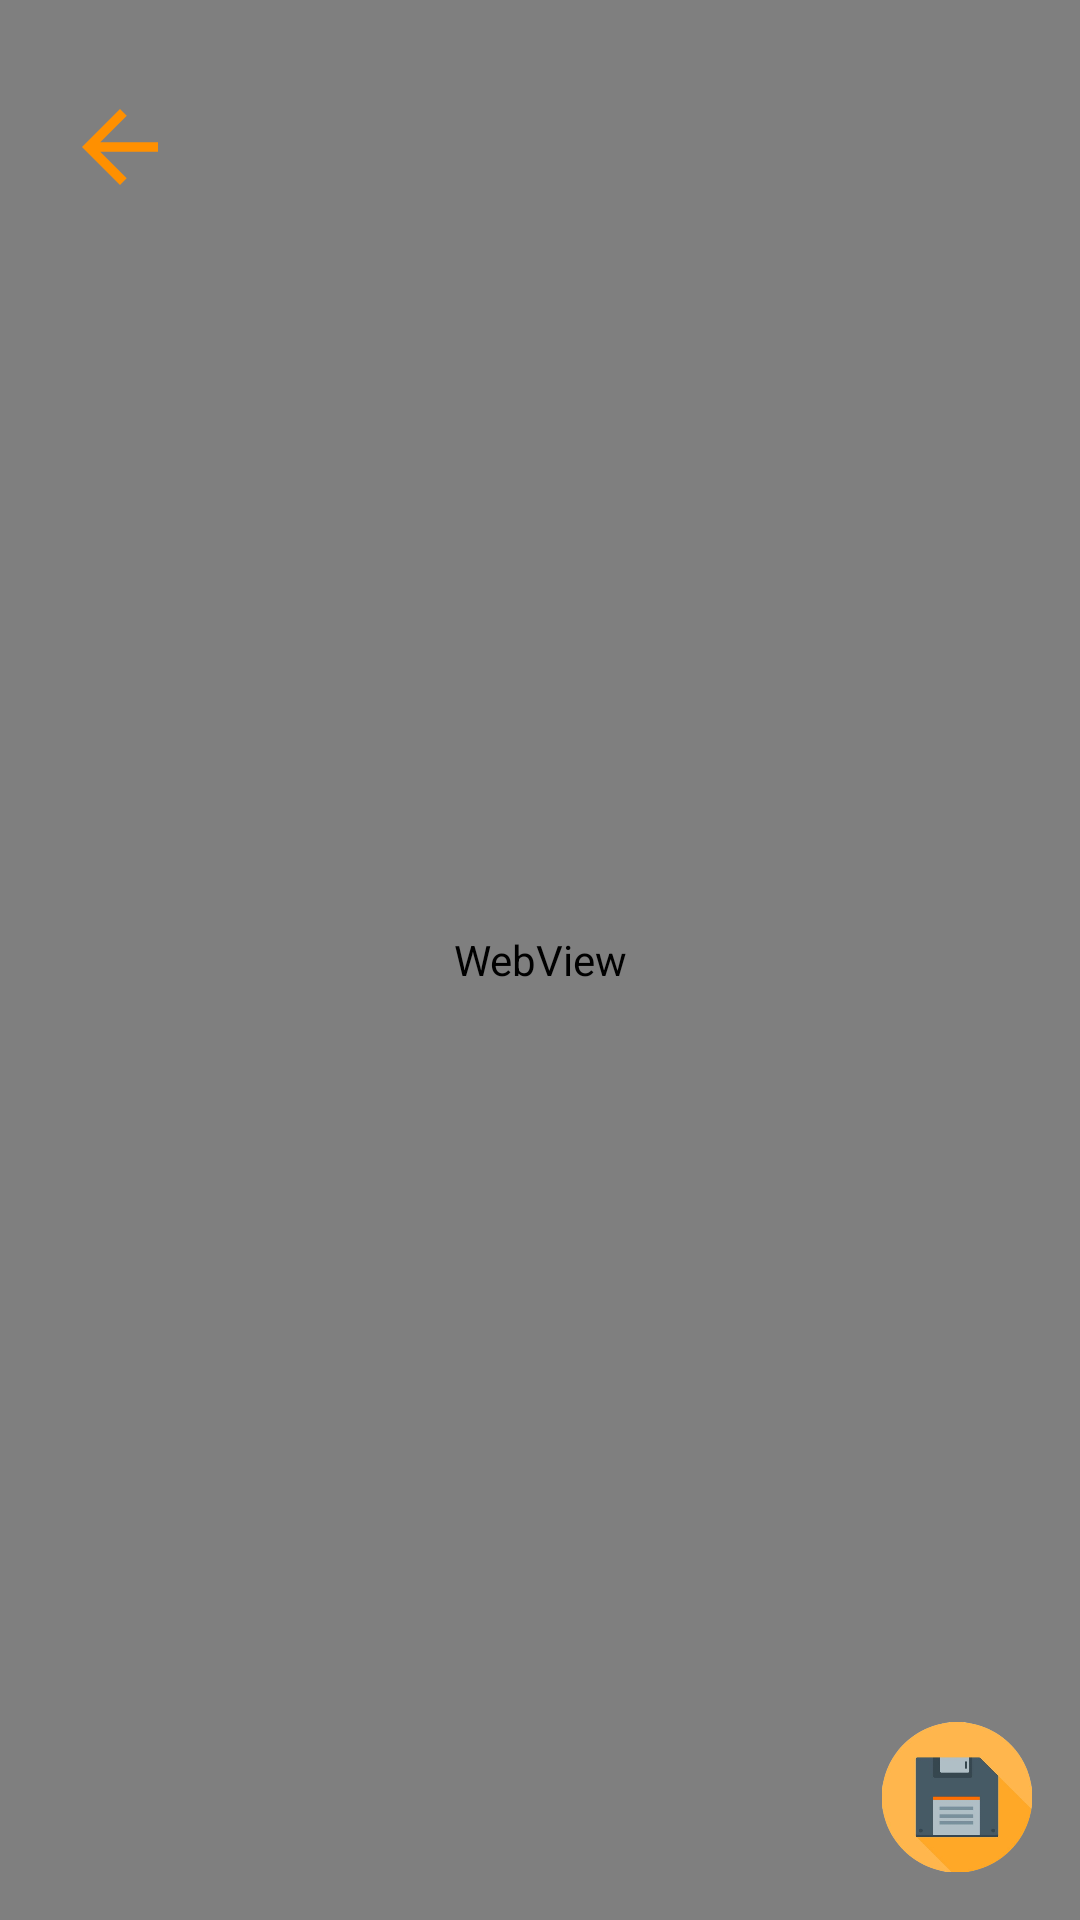

Icon click points for this 1080×1920 phone screenshot, format point (x, y):
back: point (120, 147)
this for save: point (957, 1797)
